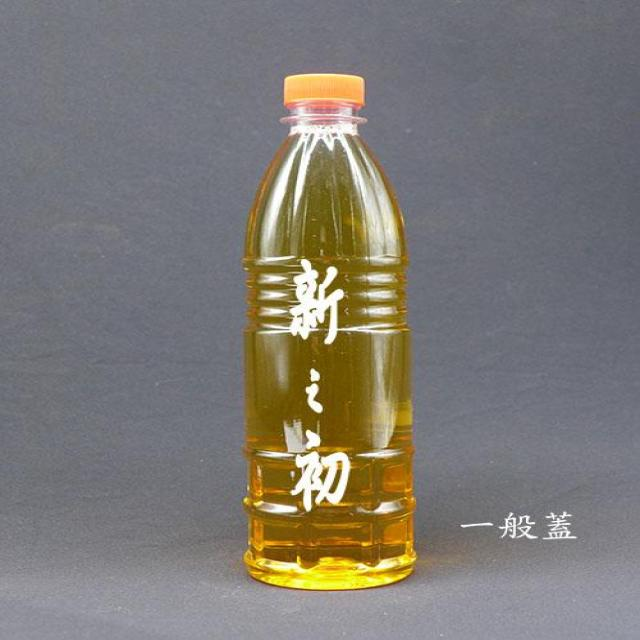bottle: (236, 65, 434, 597)
